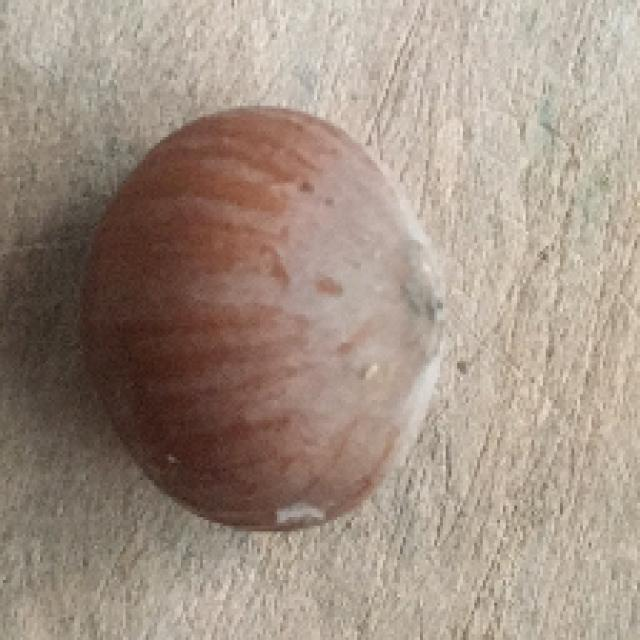qualityHazelnut: (70, 97, 460, 543)
